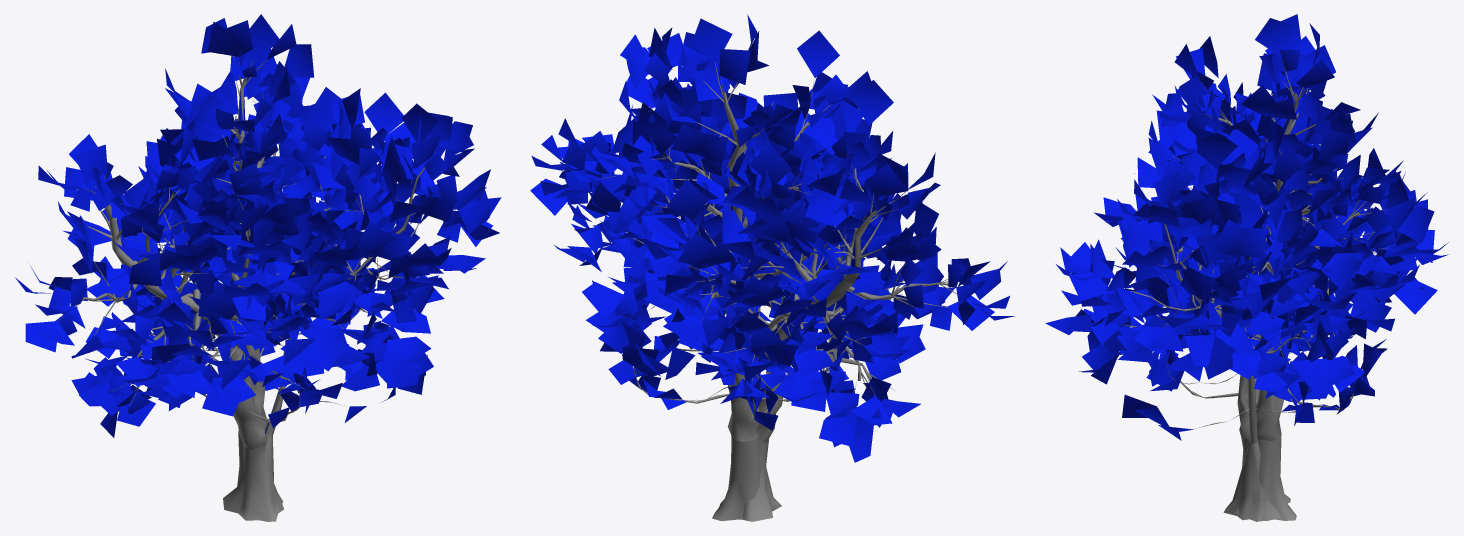
File: SM_MapleTree_Foliage.fbx
3 views of the same model, side by side, from view 1: azimuth 30°, elevation 25°; view 2: azimuth 150°, elevation 25°; view 3: azimuth 270°, elevation 25° (orthographic). The views are drawn at different scales.
Parts seen in each view (by area): view 1: SM_MapleTree_LOD1; view 2: SM_MapleTree_LOD1; view 3: SM_MapleTree_LOD1.
Boxes of the visible parts, x1,y1,x2,y2 form: SM_MapleTree_LOD1: [15, 14, 501, 521]; SM_MapleTree_LOD1: [530, 14, 1015, 521]; SM_MapleTree_LOD1: [1045, 14, 1448, 521].
Size of the model in its own units: 1603 by 1614 by 1204.
